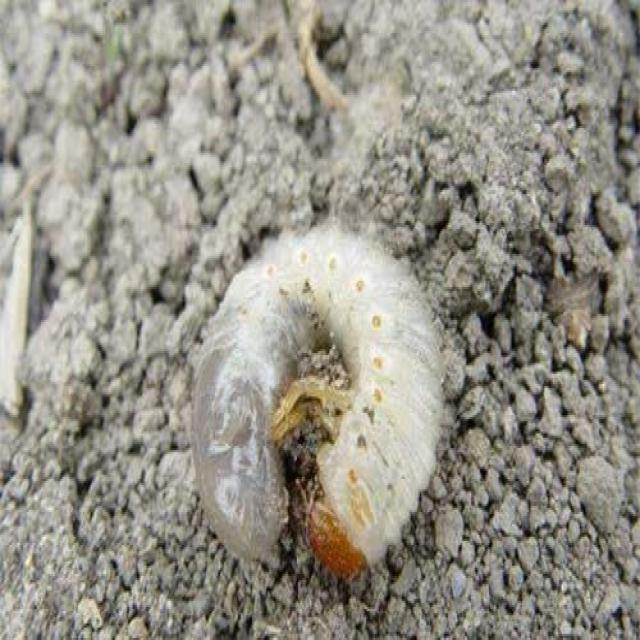grub: (192, 219, 448, 564)
